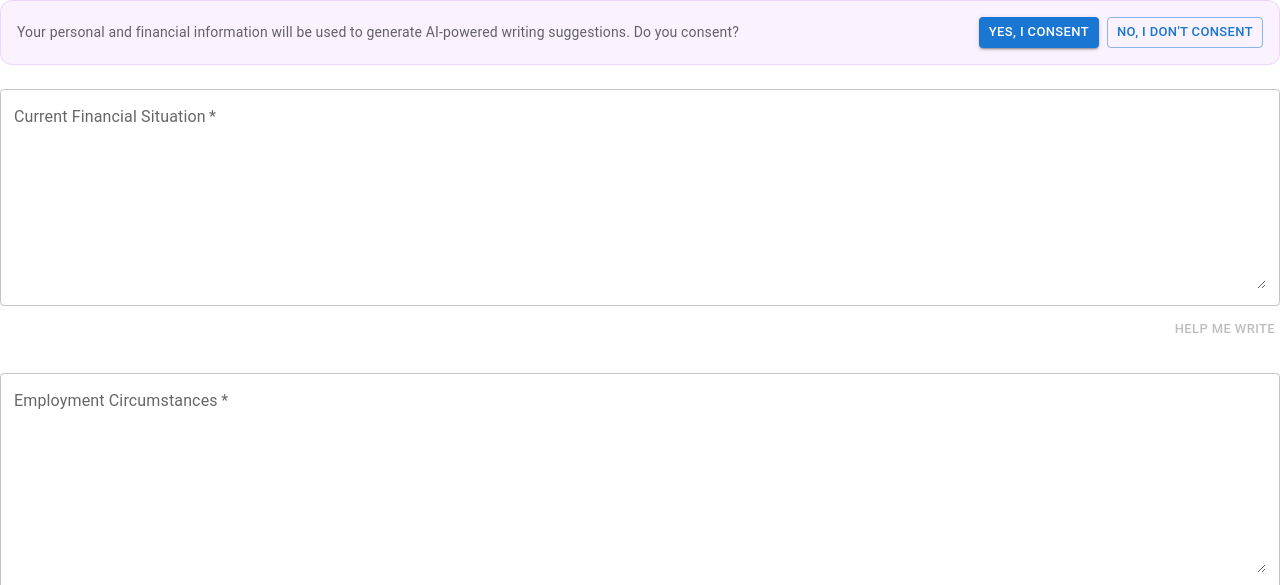
StepSituation AI suggestions › shows a timeout error when the suggestion request times out
Click the button "Yes, I consent".
click(1039, 32)  # box [979,17,1099,48]
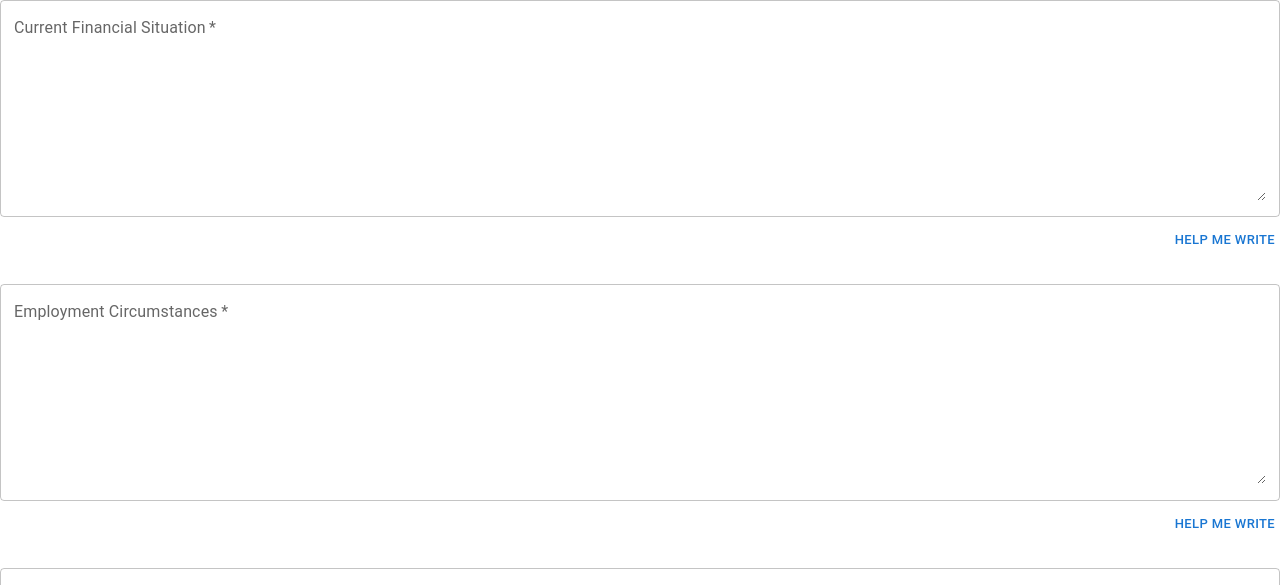
Click the 1st button "Help me write".
click(1225, 240)  # box [1170,225,1279,256]
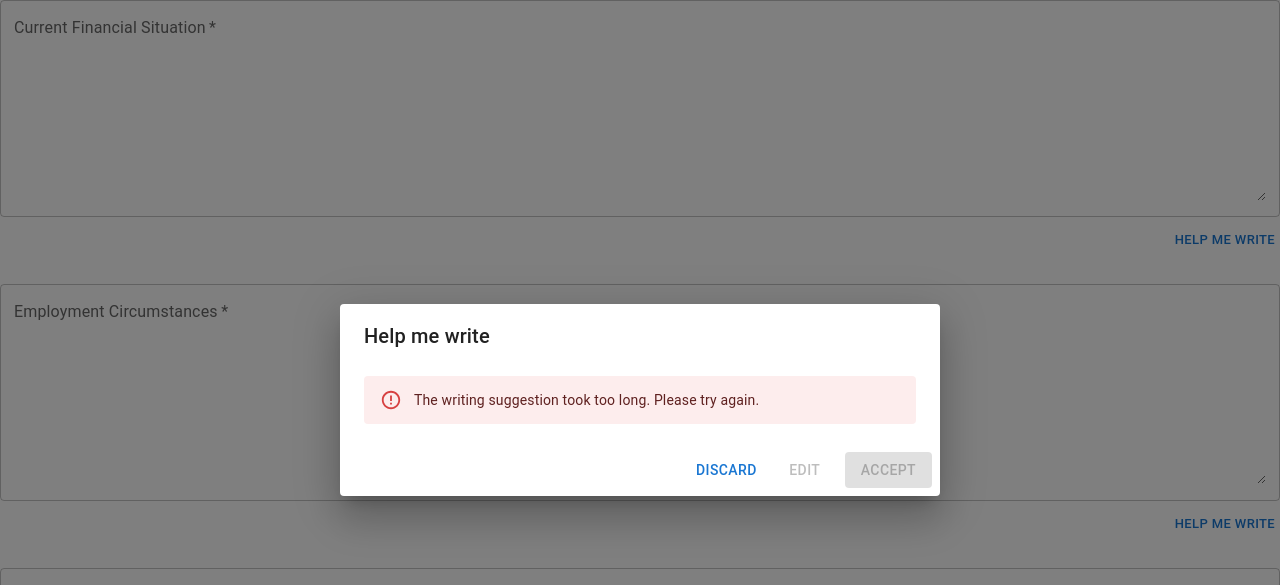
Now the text "The writing suggestion took too long. Please try again." is shown, box [414,392,759,408]
